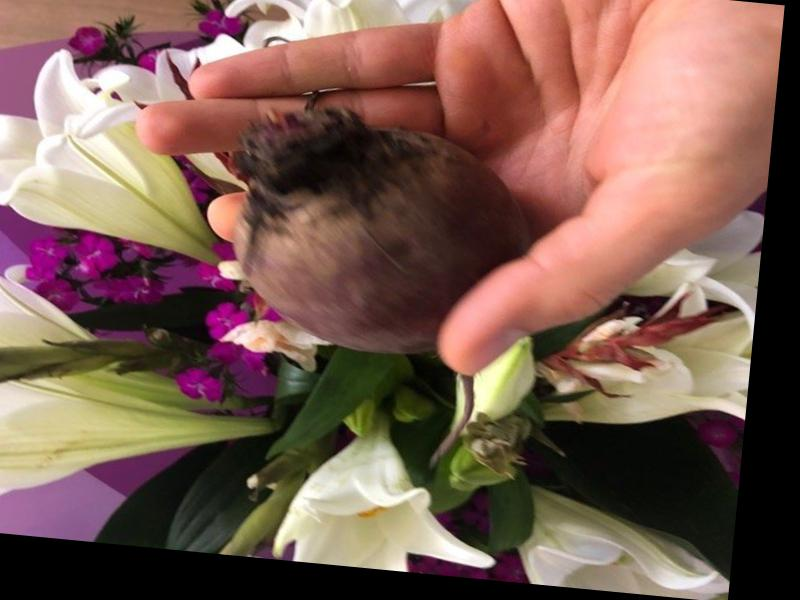Beet: (208, 108, 535, 474)
